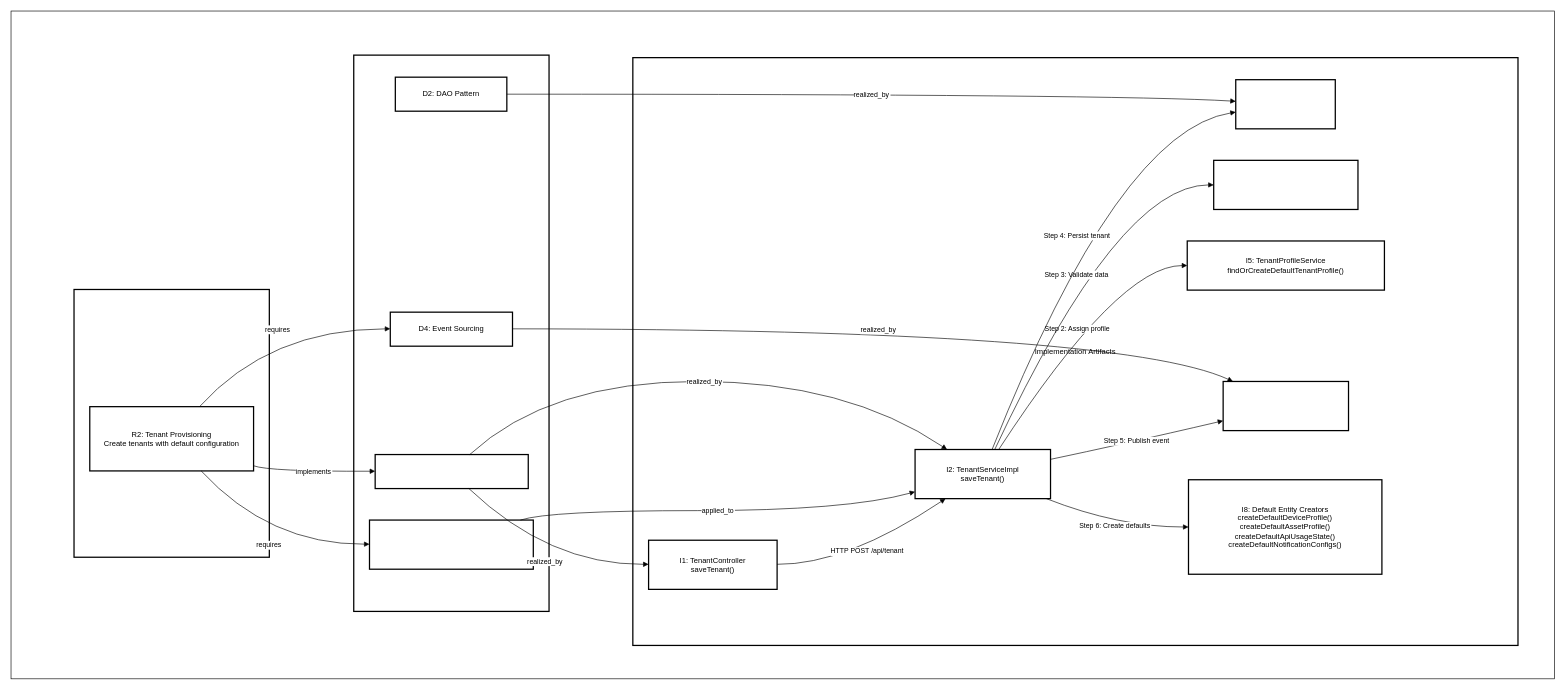
The diagram is 1566 pixels wide and 690 high, and some of its shapes have lost their labels. Here are the shapes that lost their labels. From the top down, the centre of each, then its label:
(x=1285, y=104): I3: TenantDao save()
(x=1285, y=184): I4: TenantDataValidator validate()
(x=1285, y=406): I7: SaveEntityEvent publishEvent()
(x=451, y=471): D1: Service Layer Pattern
(x=451, y=544): D5: Transaction Management
